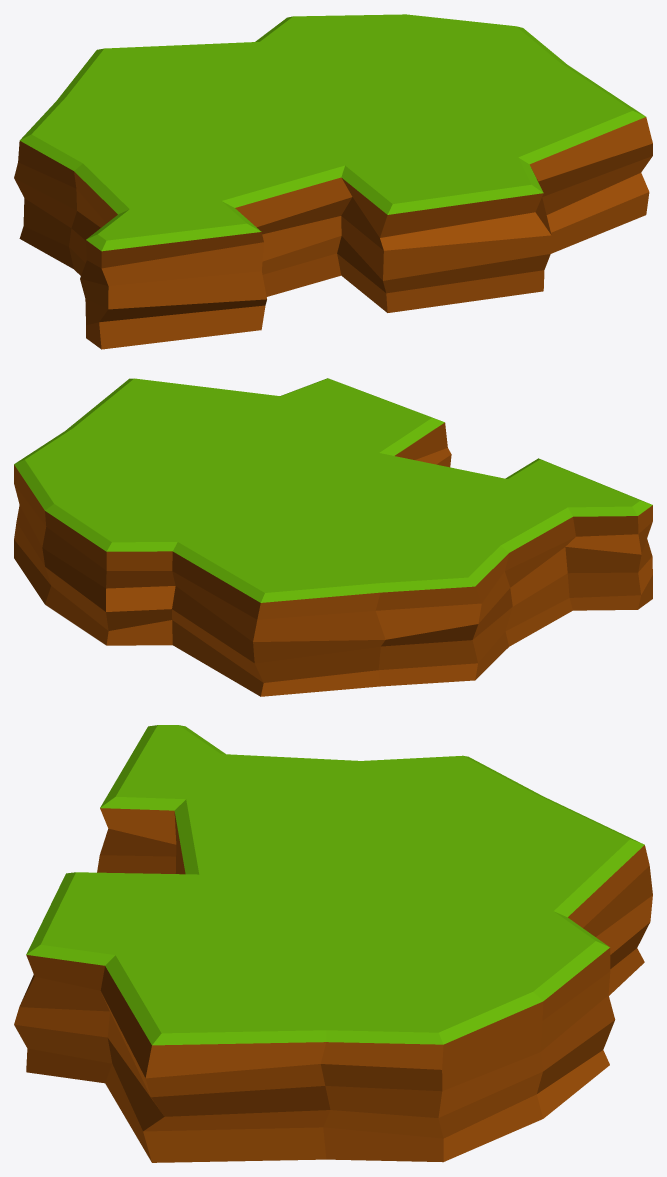
The model's file is land_square_03.fbx.
3 views of the same model, one above another, from view 1: azimuth 30°, elevation 25°; view 2: azimuth 150°, elevation 25°; view 3: azimuth 270°, elevation 25° (orthographic). The views are drawn at different scales.
Visible parts, largest first — view 1: Plane.010; view 2: Plane.010; view 3: Plane.010.
Boxes of the visible parts, x1=… form: Plane.010: x1=14, y1=14, x2=652, y2=349; Plane.010: x1=14, y1=378, x2=652, y2=696; Plane.010: x1=14, y1=725, x2=652, y2=1162.
Size of the model in its own units: 1911 by 340 by 1586.
Materials: 1 (1 with a texture image).
